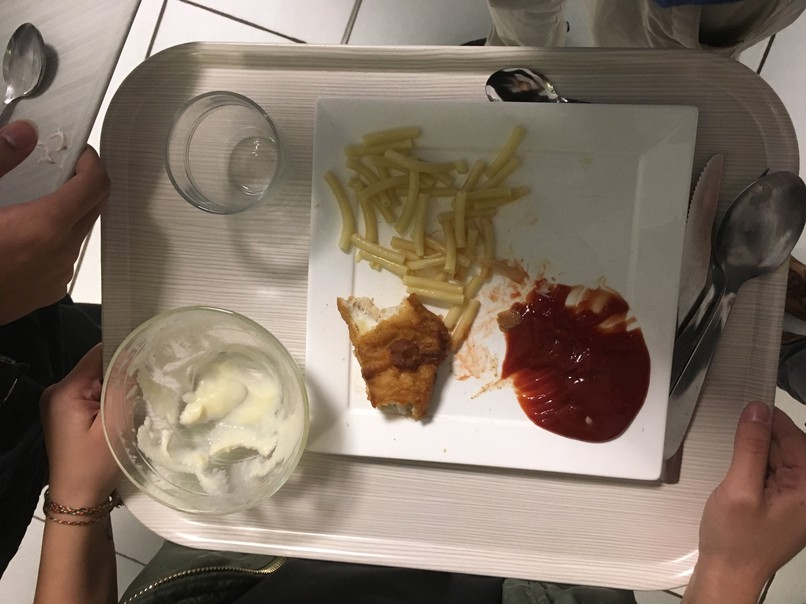cup: (138, 84, 297, 223)
cutlery: (661, 141, 805, 506), (479, 58, 578, 113)
orga: (334, 122, 509, 301), (519, 277, 643, 439), (343, 305, 455, 419), (184, 376, 272, 442)
